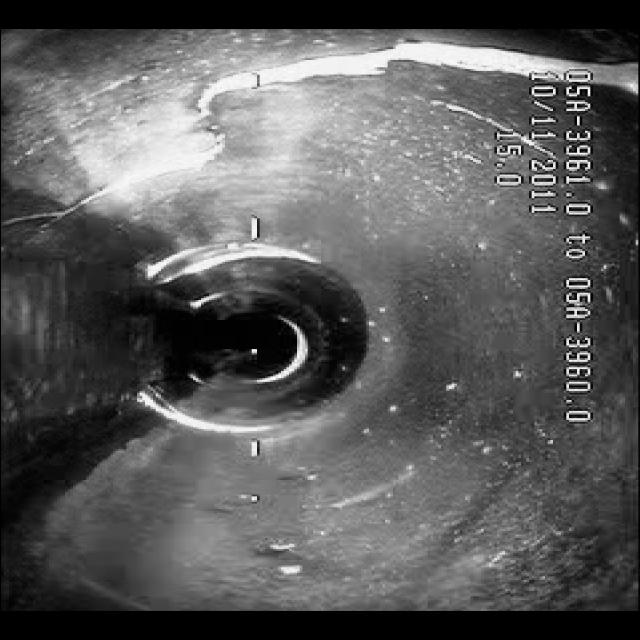Fracture: (51, 40, 428, 205)
